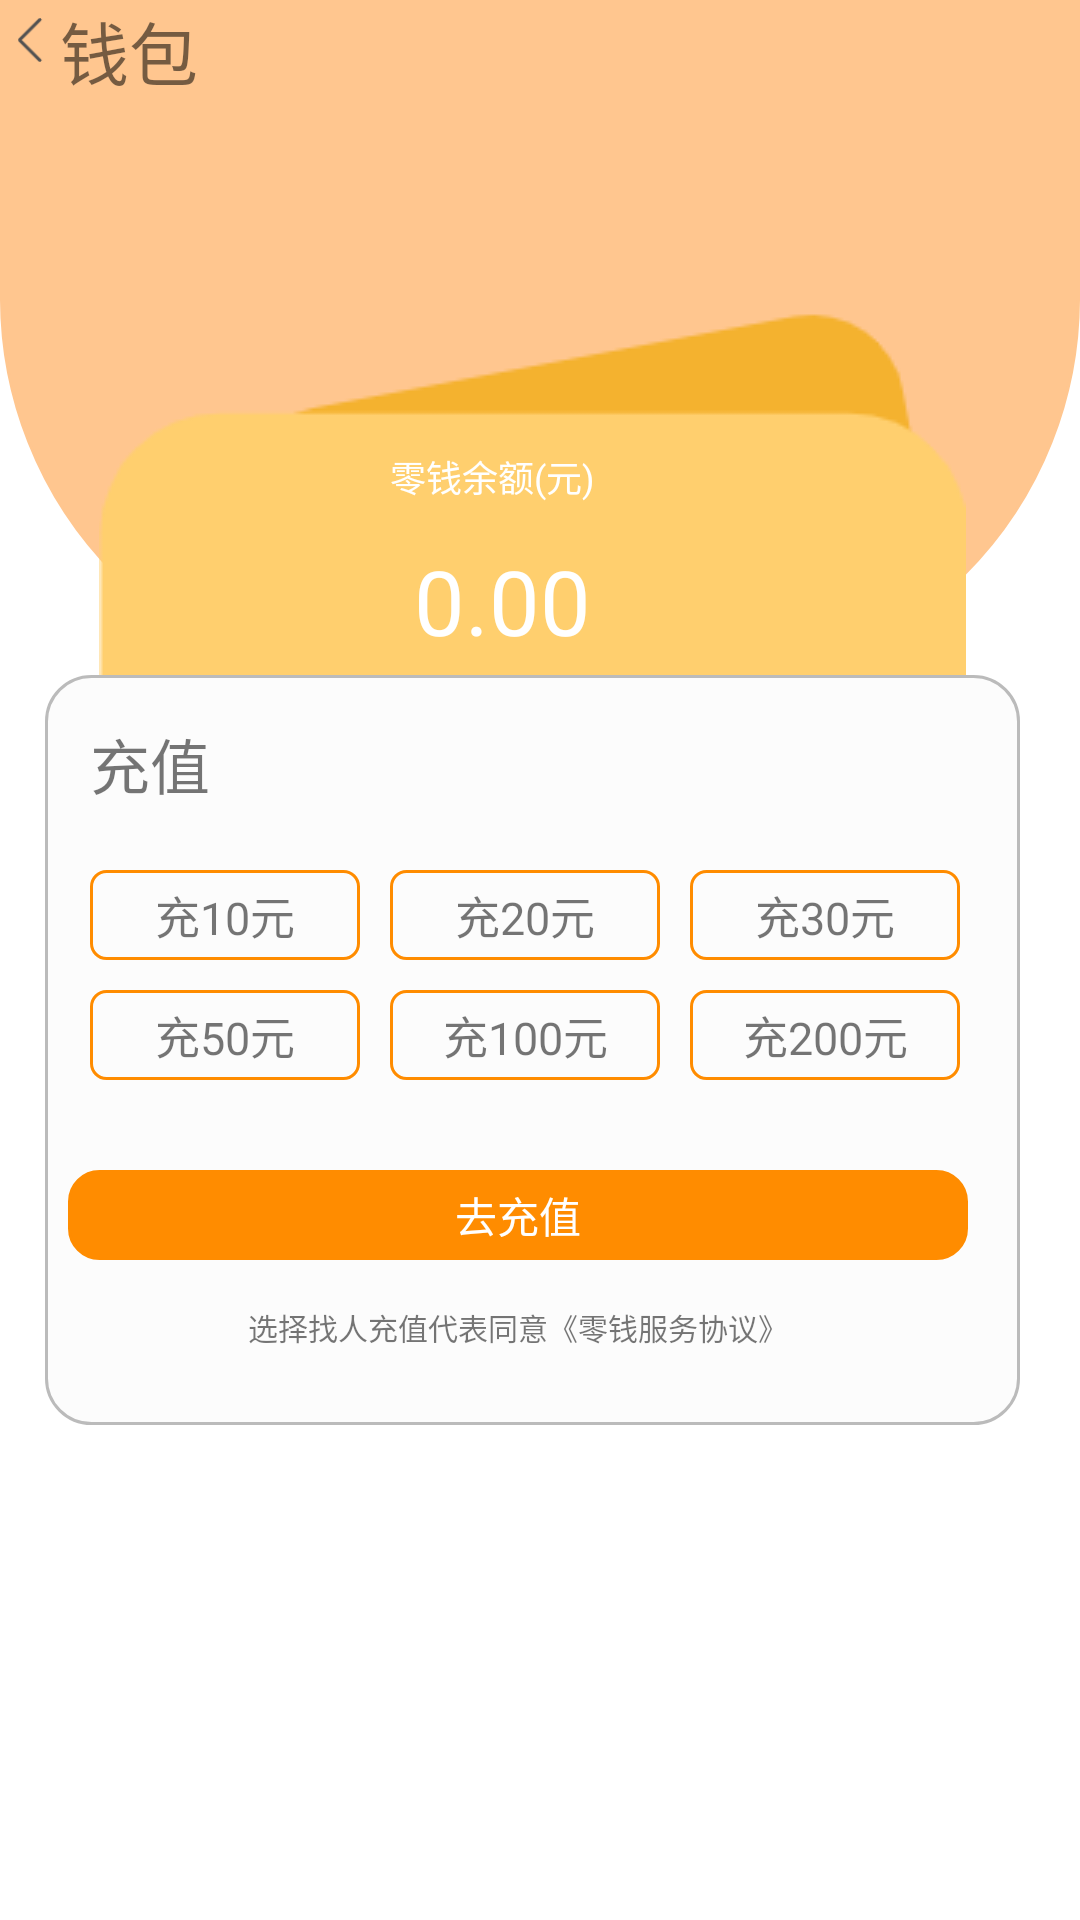

Named icons in this screenshot (1080 x 1920) and their bounding boxes, (x1, y1, x2, y2):
fanhui: (18, 18, 42, 62)
